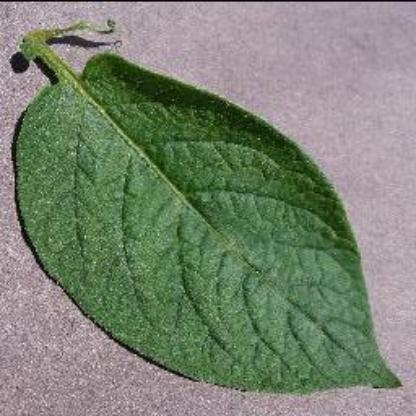Healthy-plant: (6, 13, 410, 400)
